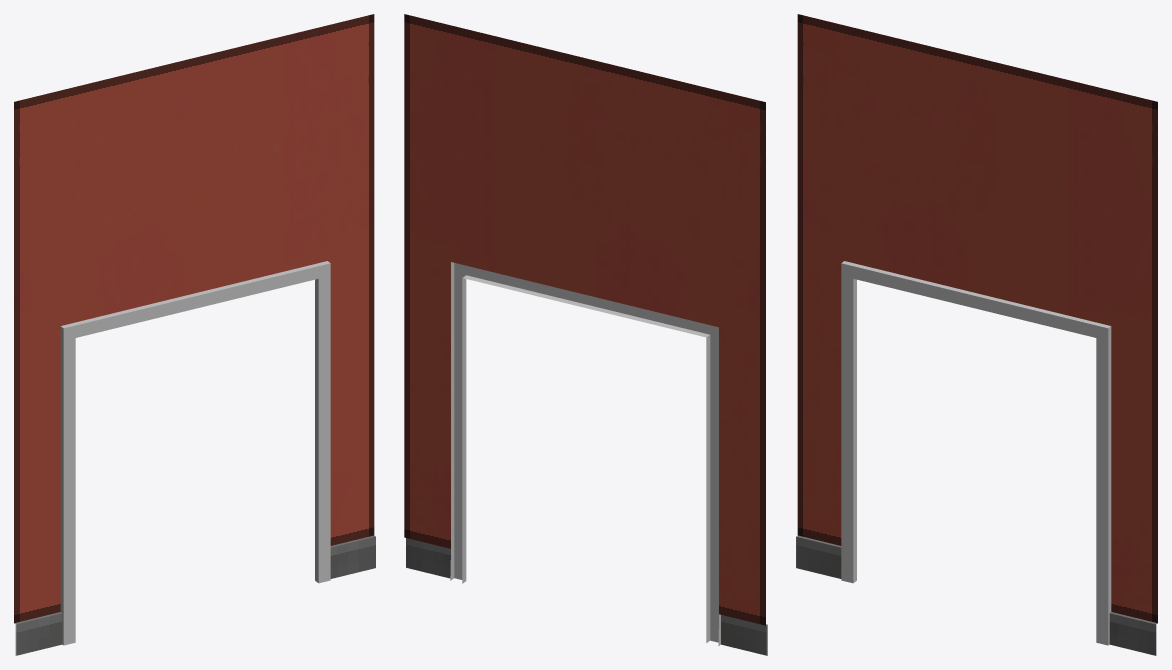
File: mesh_wall_05.FBX
The picture shows the model from 3 angles, left to right: view 1: azimuth 30°, elevation 25°; view 2: azimuth 150°, elevation 25°; view 3: azimuth 330°, elevation 25°; orthographic projection.
Parts seen in each view (by area): view 1: Object046; view 2: Object046; view 3: Object046.
Part boxes in pixels (x1=…): Object046: x1=14, y1=14, x2=375, y2=655; Object046: x1=404, y1=14, x2=767, y2=655; Object046: x1=796, y1=14, x2=1157, y2=655.
Bounding box in the file's own units: 3 × 4.4 × 0.0549.
